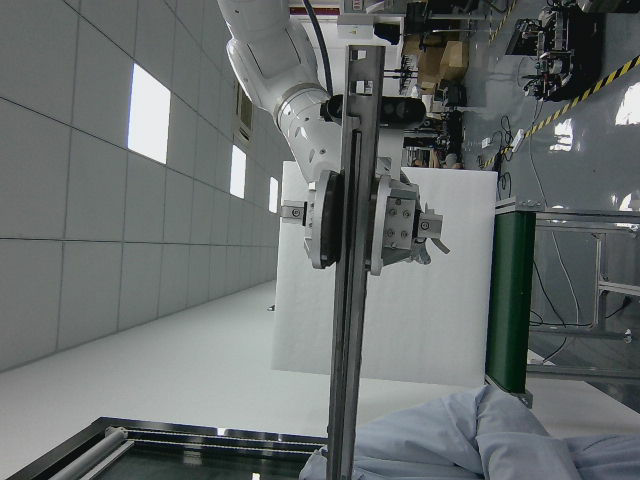up: (318, 46, 383, 478)
